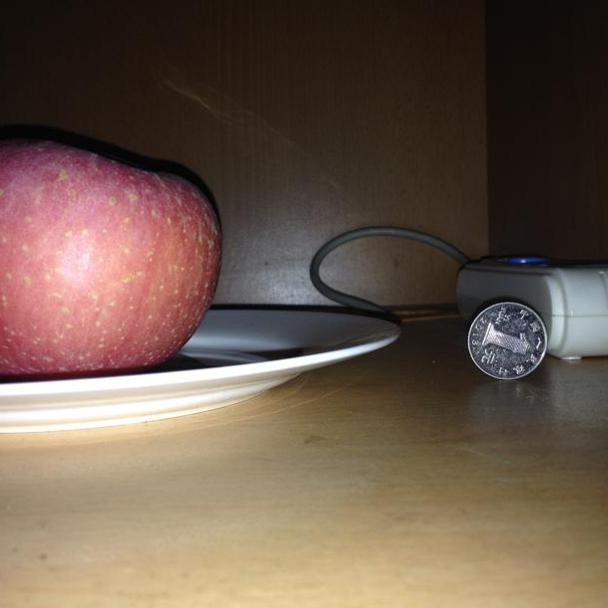apple: (1, 136, 222, 379)
